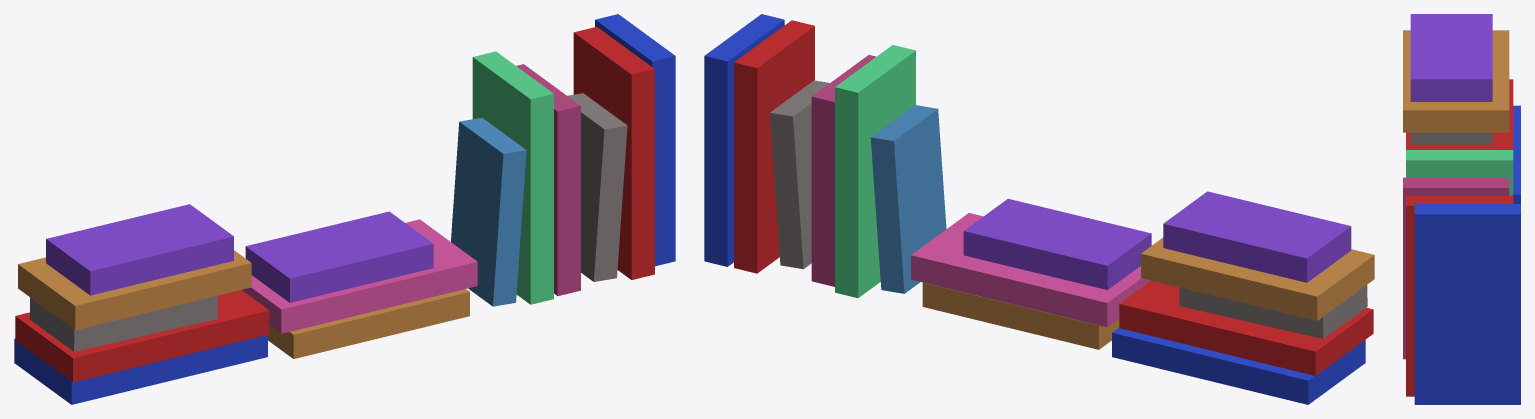
Rendered from SM_Books2.fbx.
3 views of the same model, side by side, from view 1: azimuth 30°, elevation 25°; view 2: azimuth 150°, elevation 25°; view 3: azimuth 270°, elevation 25° (orthographic). The views are drawn at different scales.
Visible parts, largest first — view 1: Cube.049; view 2: Cube.049; view 3: Cube.049.
Part boxes in pixels (box(x1,y1,x2,y2)): Cube.049: box(14, 14, 675, 404); Cube.049: box(704, 14, 1374, 404); Cube.049: box(1403, 14, 1520, 404).
Bounding box in the file's own units: 174 × 31.53 × 57.15.
